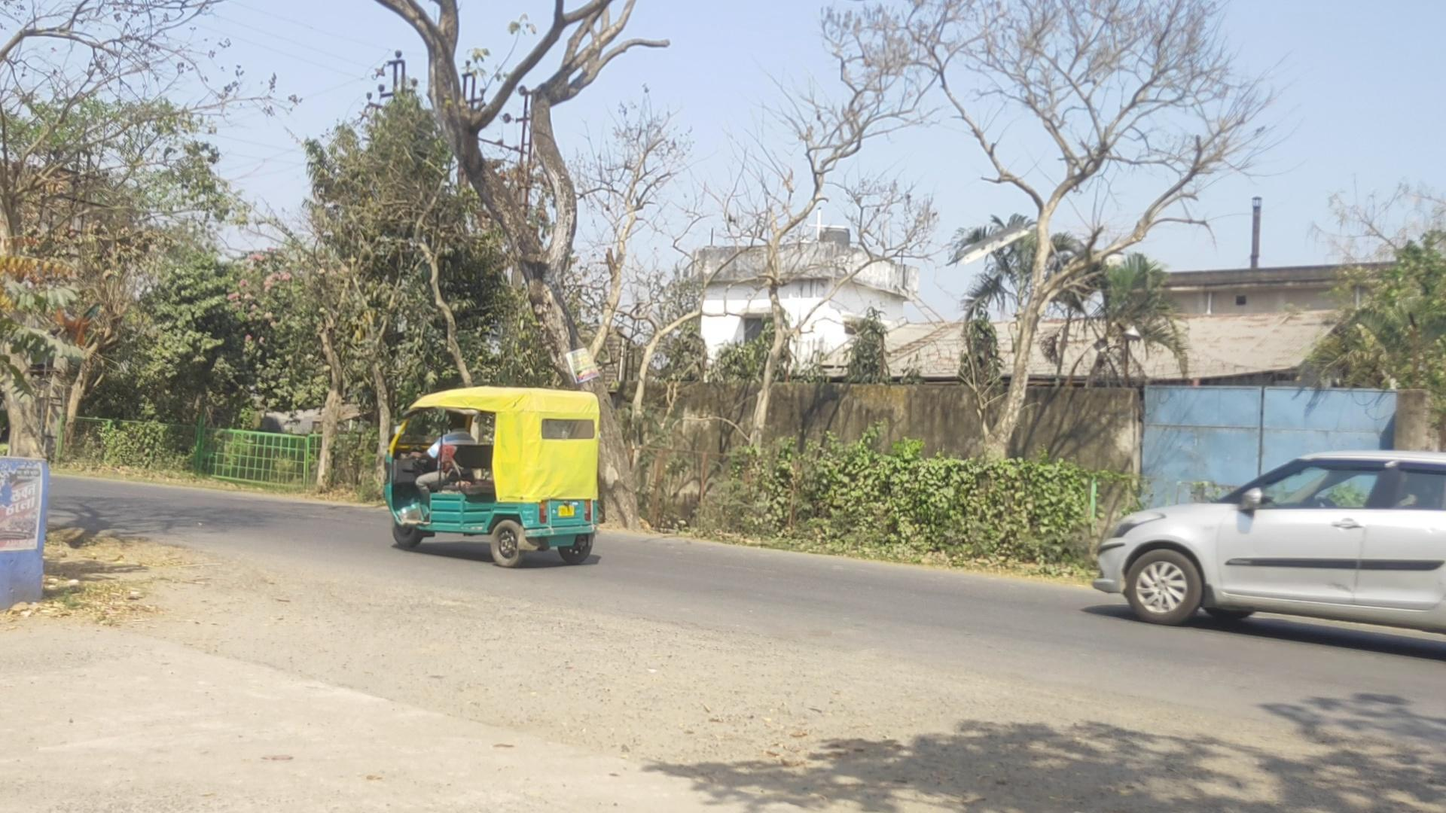Auto: (383, 386, 599, 568)
car: (1092, 450, 1446, 652)
